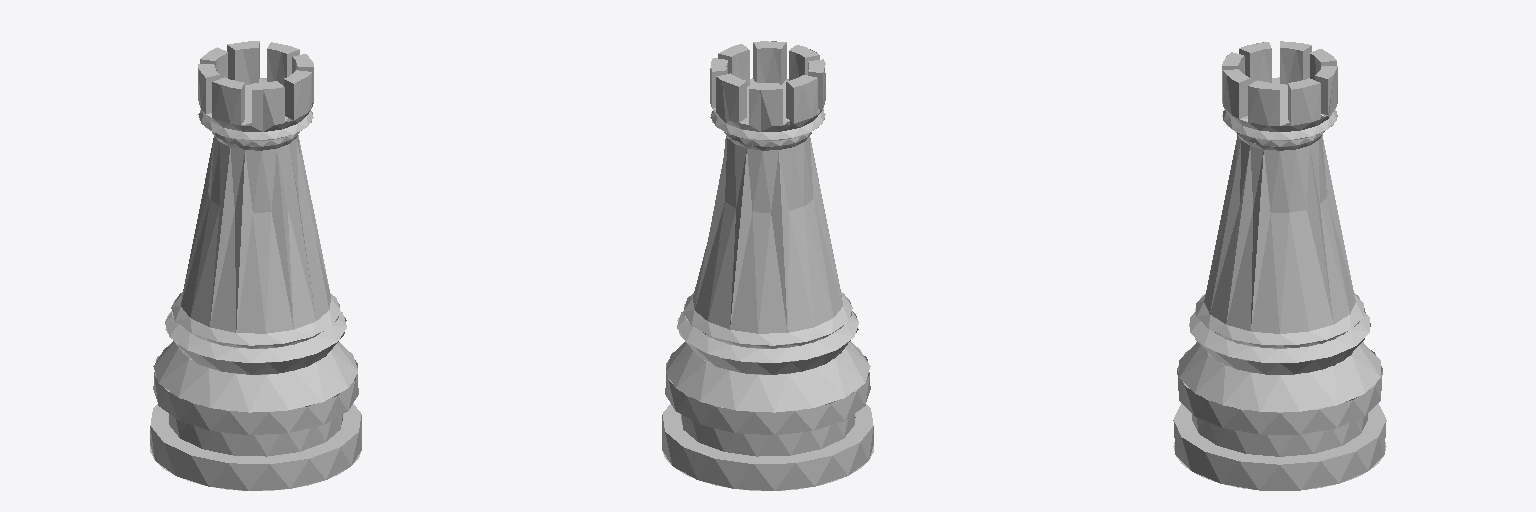
The model's file is rooklow.obj.
3 renders of one model, left to right at view 1: azimuth 30°, elevation 25°; view 2: azimuth 150°, elevation 25°; view 3: azimuth 270°, elevation 25°, orthographic.
Parts seen in each view (by area): view 1: Circle; view 2: Circle; view 3: Circle.
Boxes of the visible parts, x1,y1,x2,y2 form: Circle: [150, 41, 361, 490]; Circle: [662, 41, 873, 490]; Circle: [1173, 41, 1386, 490].
Bounding box in the file's own units: 2 × 3.94 × 2.